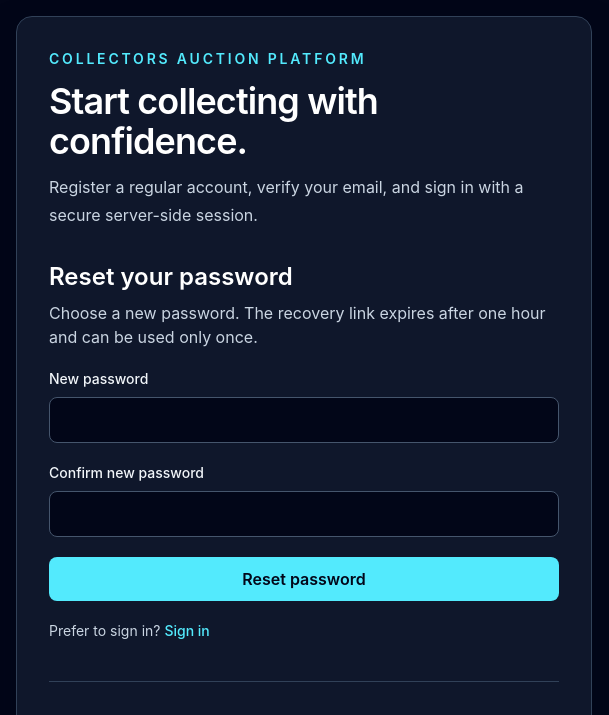
Test case: App › consumes a recovery link and returns to sign in after resetting the password
Check: the heading "Reset your password" is shown, box top-left (49, 262), bottom-right (293, 291)
Type "a replacement password" into the password field labelled "New password" at (304, 420), box top-left (49, 397), bottom-right (559, 443)
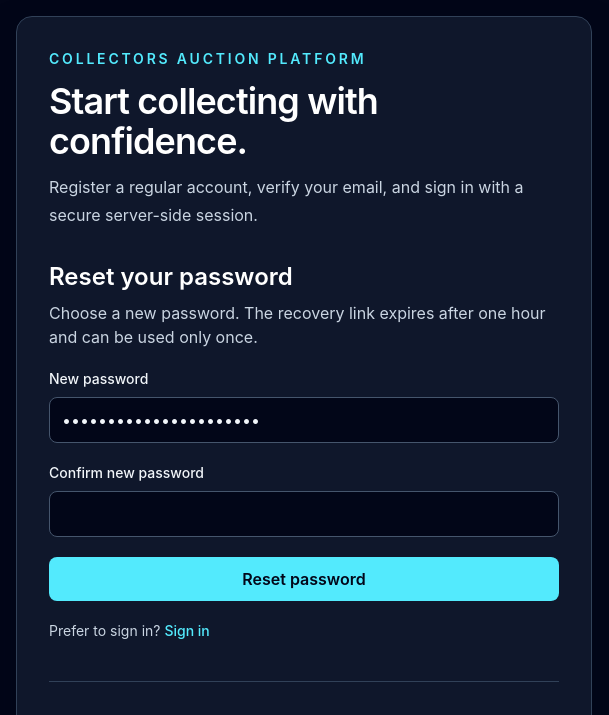
Type "a replacement password" into the password field labelled "Confirm new password" at (304, 514), box top-left (49, 491), bottom-right (559, 537)
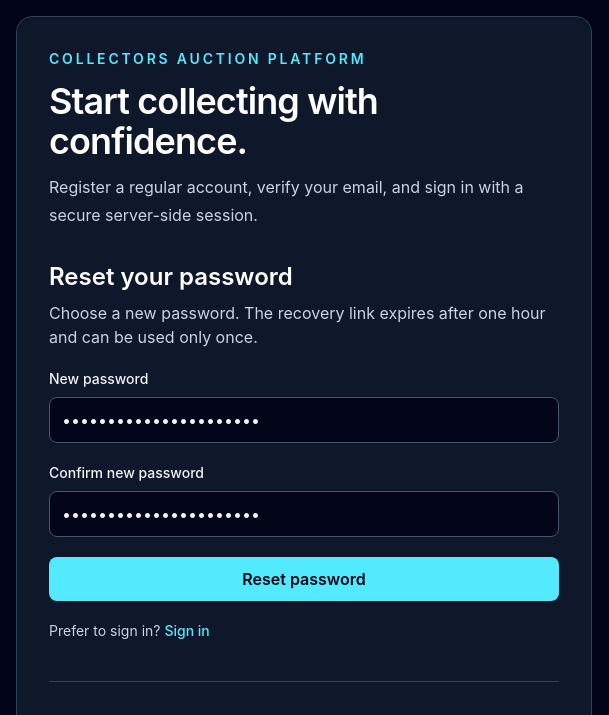
Click the button "Reset password" at (304, 579), box top-left (49, 557), bottom-right (559, 601)
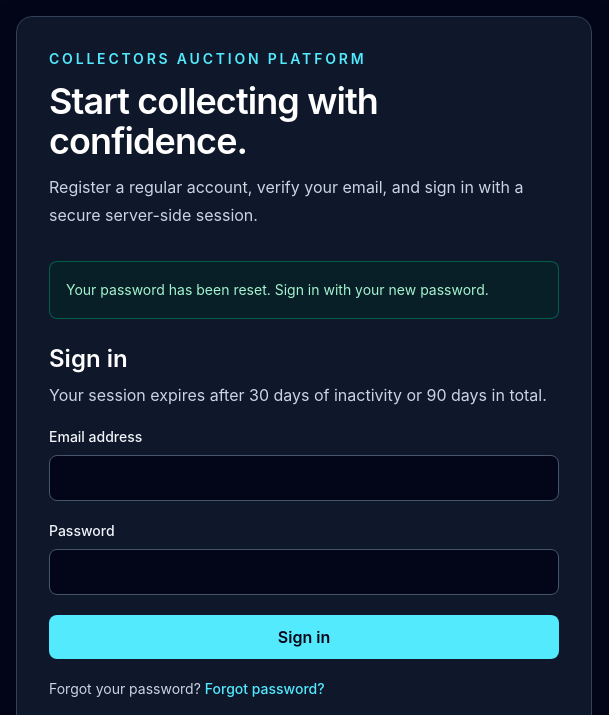
Check: the heading "Sign in" is shown, box top-left (49, 344), bottom-right (128, 373)
Check: the message reads "Your password has been reset. Sign in with your new password.", box top-left (66, 281), bottom-right (489, 298)
